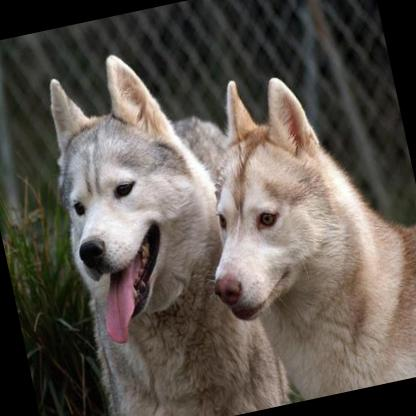Siberian_husky: (33, 31, 290, 416), (169, 43, 416, 412)
